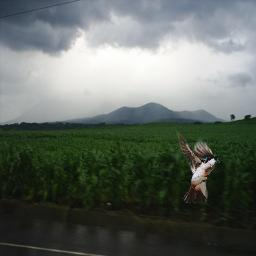Swallow: (175, 129, 220, 203)
